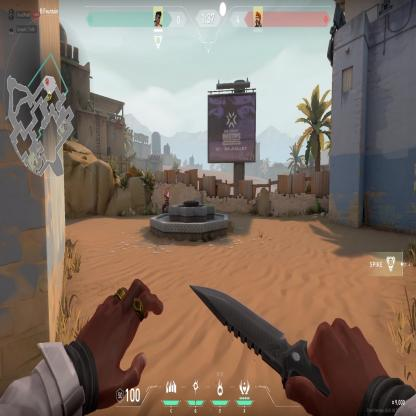enemy: (161, 187, 170, 214)
